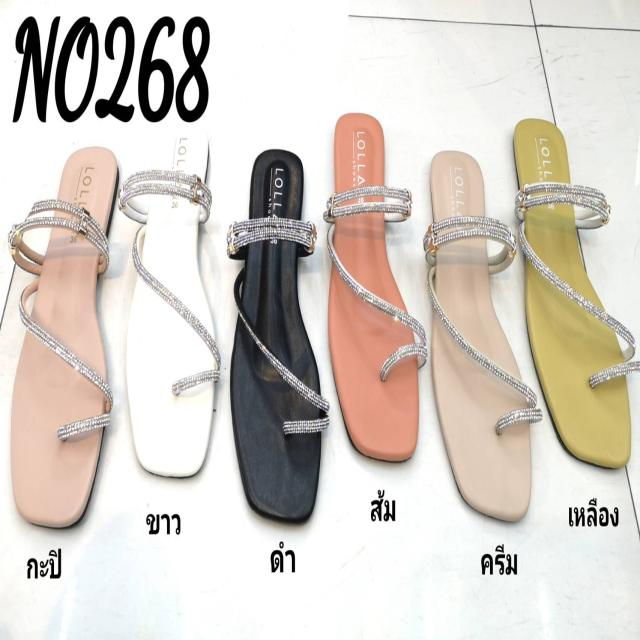black: (232, 145, 321, 520)
cream: (426, 151, 532, 525)
kapi: (11, 145, 118, 520)
orange: (329, 110, 421, 466)
white: (123, 118, 220, 477)
yellow: (512, 111, 634, 471)
